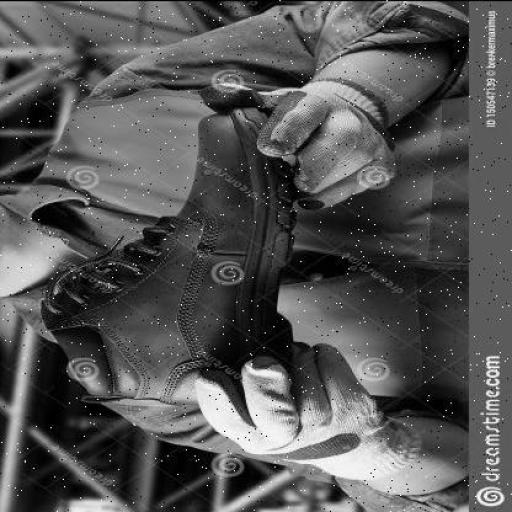safety_shoe: (50, 110, 301, 408)
